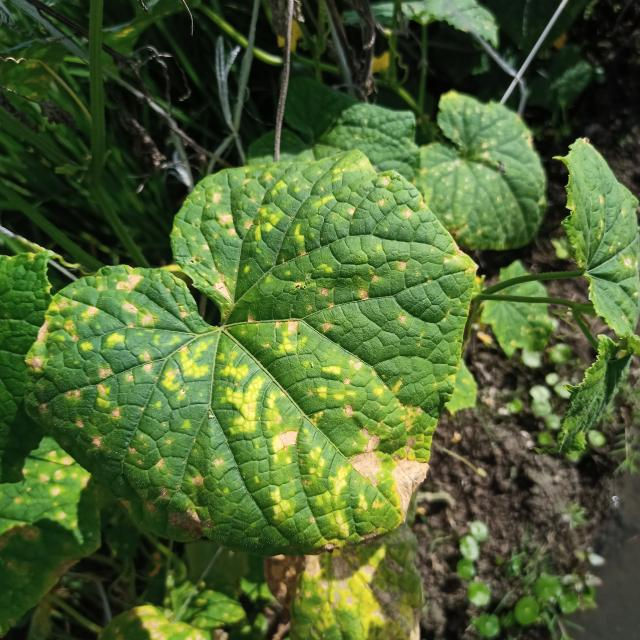disease_cucumber: (29, 165, 466, 553)
